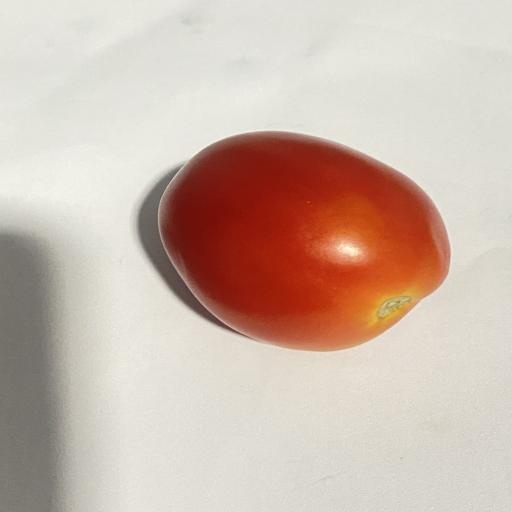ripe: (158, 131, 450, 351)
